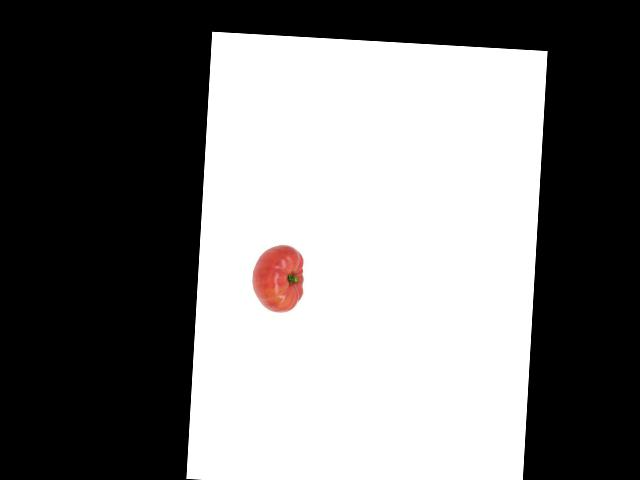tomato: (250, 244, 304, 314)
